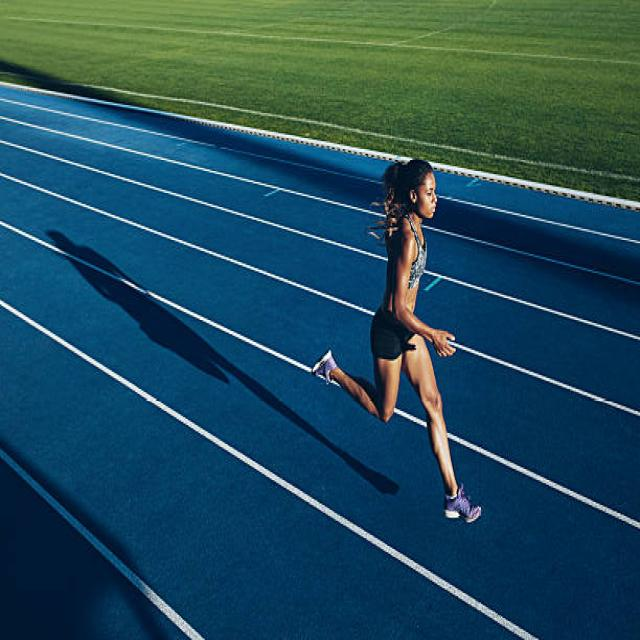running: (310, 156, 484, 527)
